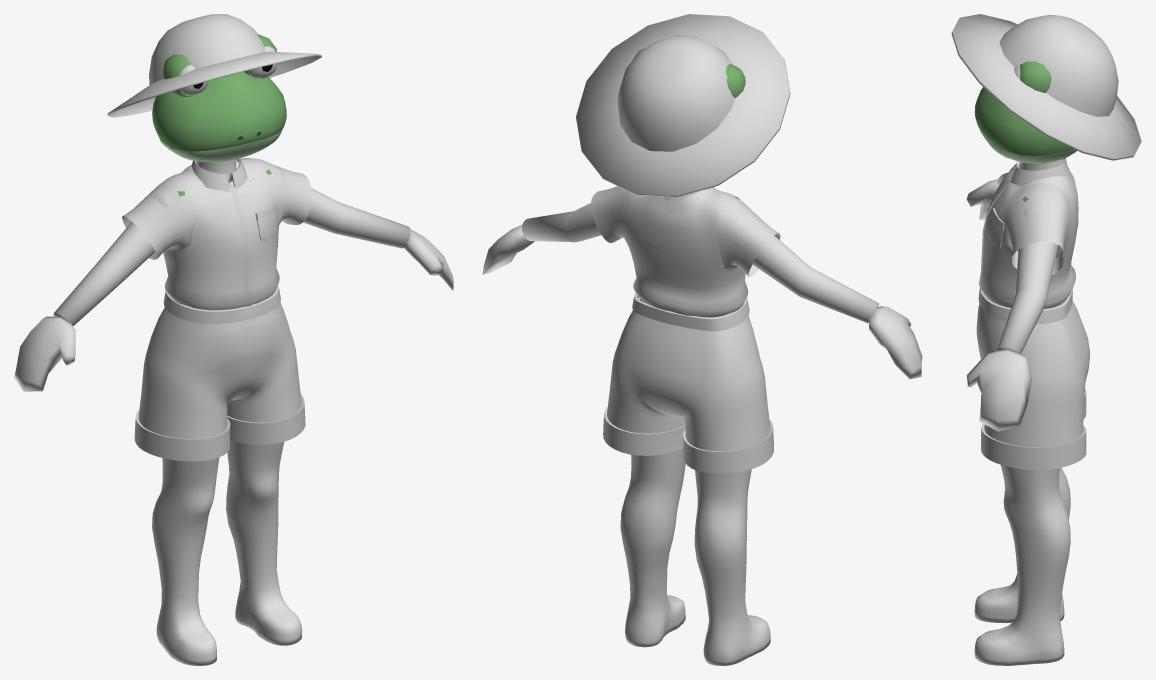
Rendered from SM_Player_size_test.fbx.
3 renders of one model, left to right at view 1: azimuth 30°, elevation 25°; view 2: azimuth 150°, elevation 25°; view 3: azimuth 270°, elevation 25°, orthographic.
Parts seen in each view (by area): view 1: Player_size_test; view 2: Player_size_test; view 3: Player_size_test.
Part boxes in pixels (x1,y1,x2,y2): Player_size_test: [14, 14, 453, 665]; Player_size_test: [482, 14, 922, 665]; Player_size_test: [951, 14, 1141, 665].
Size of the model in its own units: 133 by 181 by 50.75.
